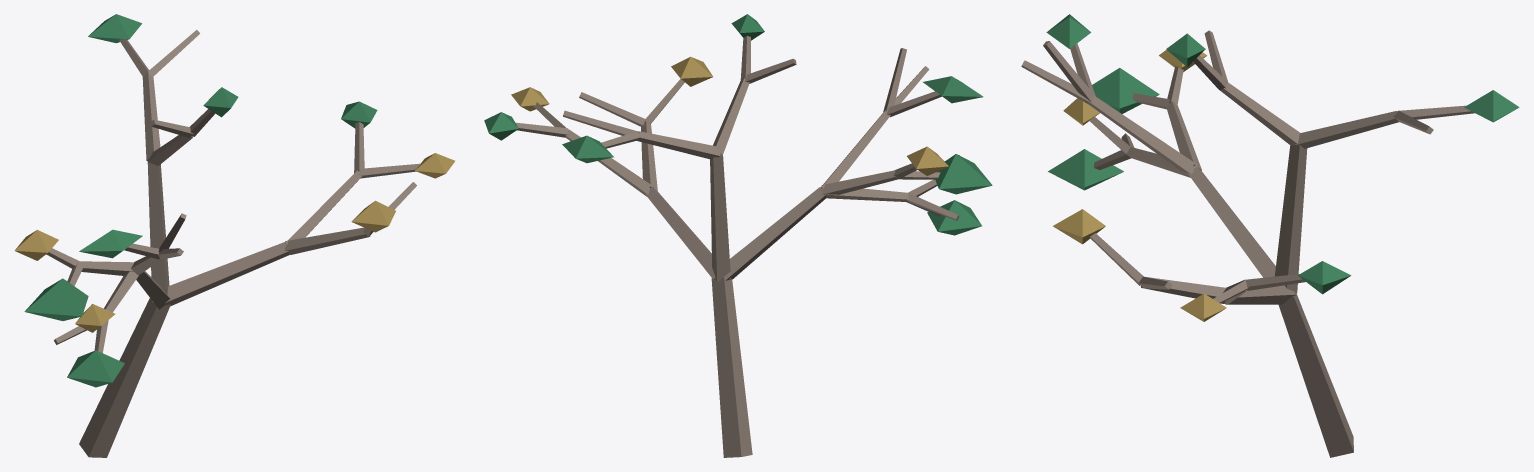
Rendered from bush_thorn_a.glb.
3 views of the same model, side by side, from view 1: azimuth 30°, elevation 25°; view 2: azimuth 150°, elevation 25°; view 3: azimuth 270°, elevation 25° (orthographic). The views are drawn at different scales.
Visible parts, largest first — view 1: BushThornA; view 2: BushThornA; view 3: BushThornA.
Part boxes in pixels (<box>): BushThornA: <box>14,14,454,457</box>; BushThornA: <box>484,14,992,457</box>; BushThornA: <box>1021,14,1519,457</box>.
Size of the model in its own units: 1.41 by 1.16 by 1.16.
